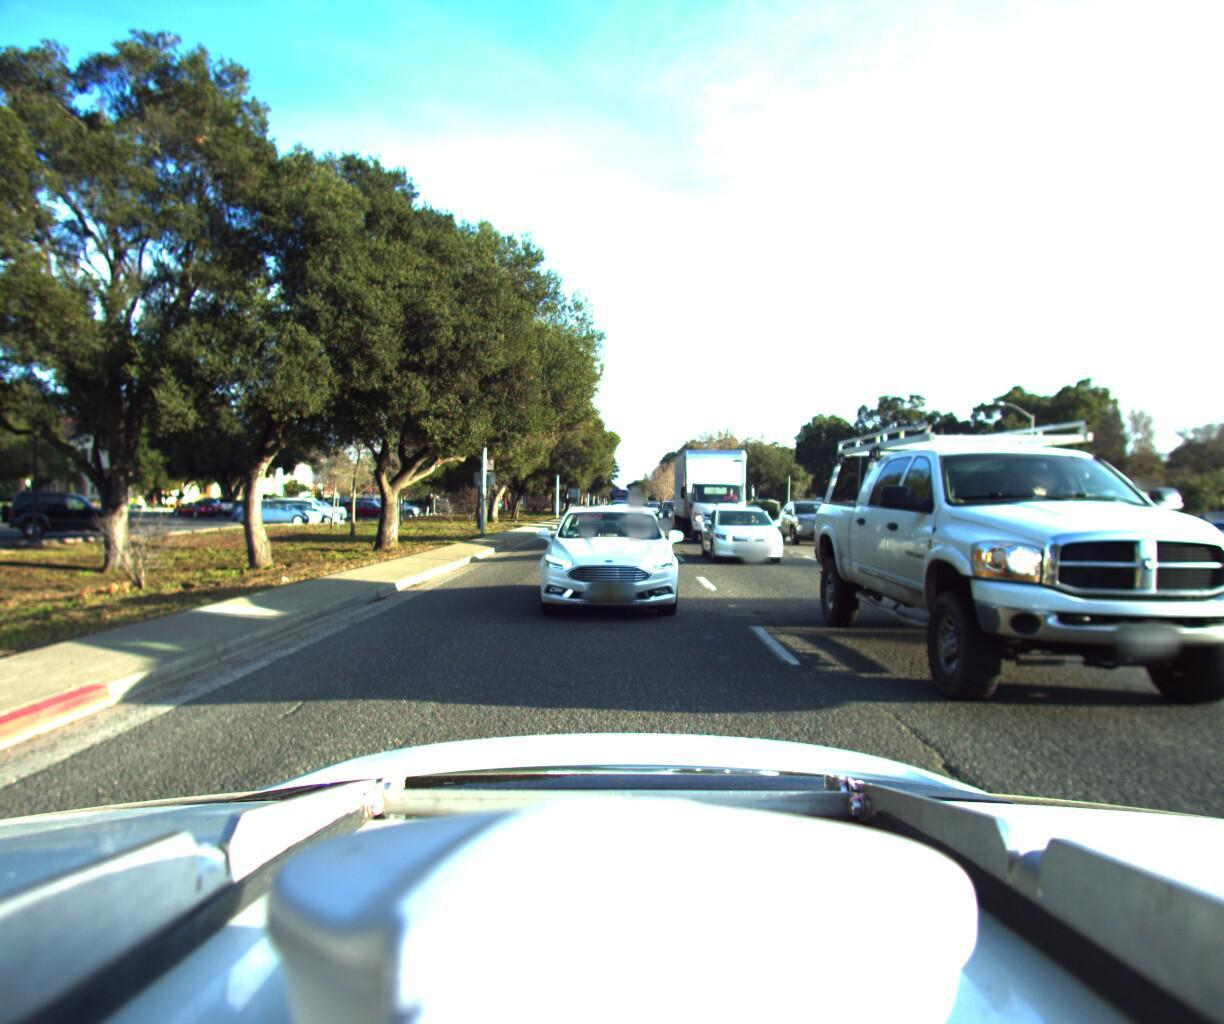car: (804, 347, 1224, 766), (533, 495, 678, 634), (699, 496, 790, 563), (774, 494, 848, 544), (1171, 511, 1224, 559), (663, 488, 712, 526)
other_vehicle: (1036, 480, 1188, 557)
truck: (667, 436, 754, 544)
